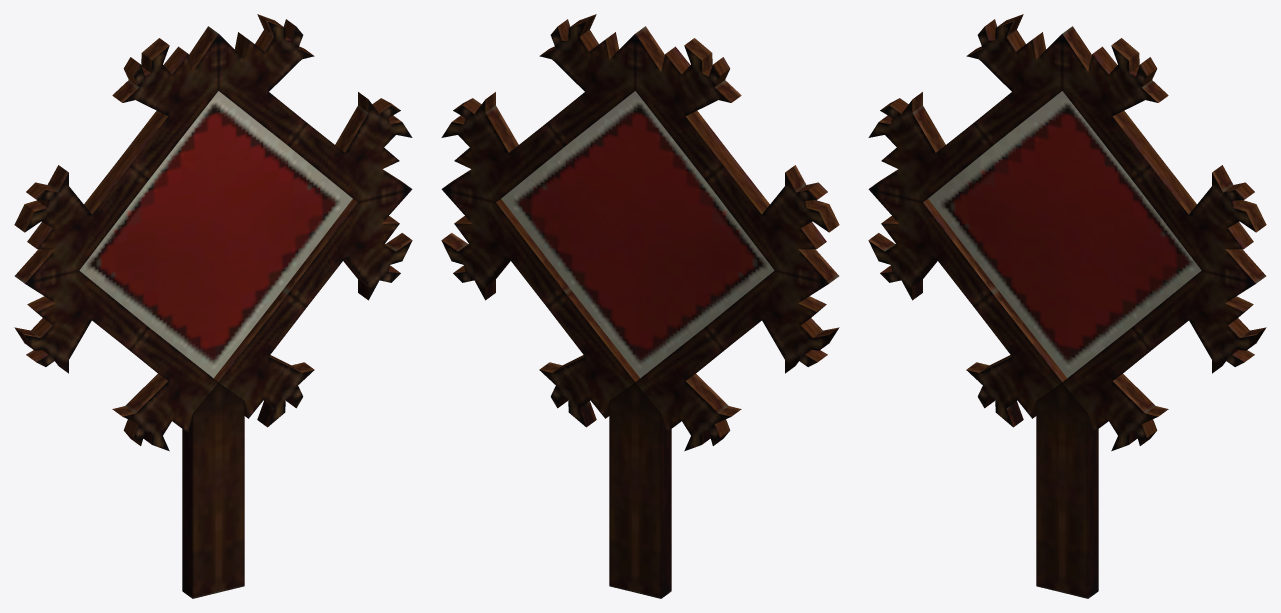
File: ob-standganpan-06.fbx
3 renders of one model, left to right at view 1: azimuth 30°, elevation 25°; view 2: azimuth 150°, elevation 25°; view 3: azimuth 330°, elevation 25°, orthographic.
Visible parts, largest first — view 1: Object07; view 2: Object07; view 3: Object07.
Part boxes in pixels (left/top/right/bottom): Object07: left=14, top=14, right=412, bottom=598; Object07: left=441, top=14, right=839, bottom=598; Object07: left=868, top=14, right=1266, bottom=598.
Size of the model in its own units: 2 by 2.76 by 0.0932.
